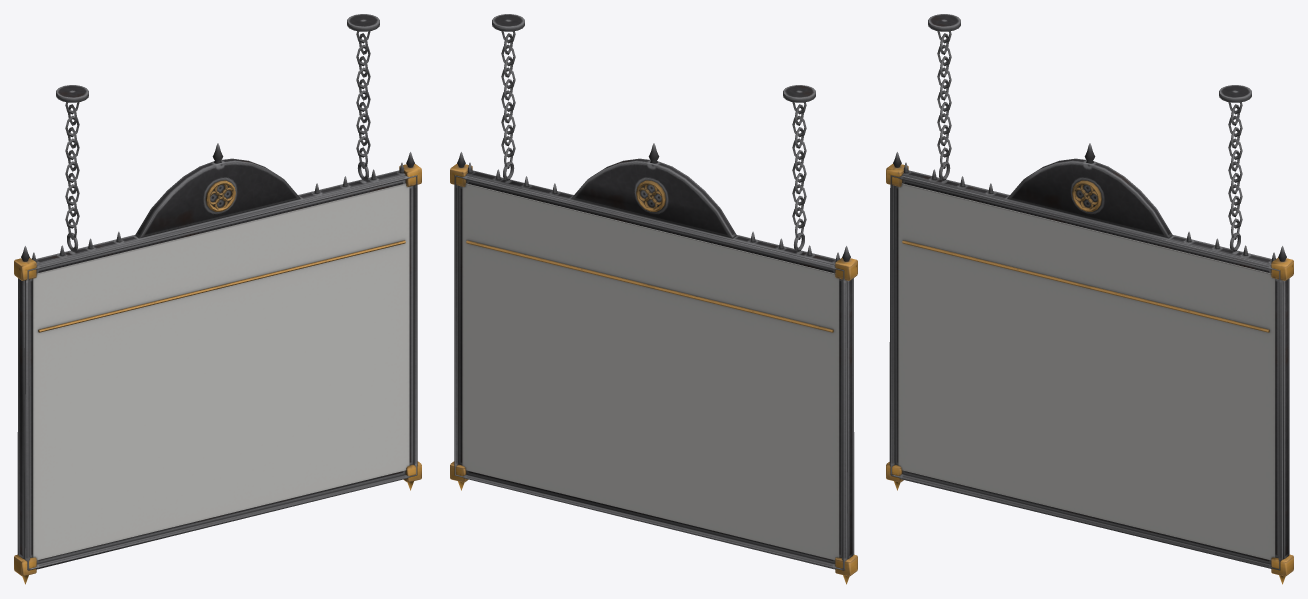
File: WingDirectory.fbx
The picture shows the model from 3 angles, left to right: view 1: azimuth 30°, elevation 25°; view 2: azimuth 150°, elevation 25°; view 3: azimuth 330°, elevation 25°; orthographic projection.
Parts seen in each view (by area): view 1: WingDirectory_Field, WingDirectory_Main; view 2: WingDirectory_Field, WingDirectory_Main; view 3: WingDirectory_Field, WingDirectory_Main.
Part boxes in pixels (<box>): WingDirectory_Field: <box>32,183,409,560</box>; WingDirectory_Main: <box>14,14,421,584</box>; WingDirectory_Field: <box>462,183,839,560</box>; WingDirectory_Main: <box>450,14,857,584</box>; WingDirectory_Field: <box>898,183,1275,560</box>; WingDirectory_Main: <box>886,14,1293,584</box>.
Bounding box in the file's own units: 468 × 538 × 34.
